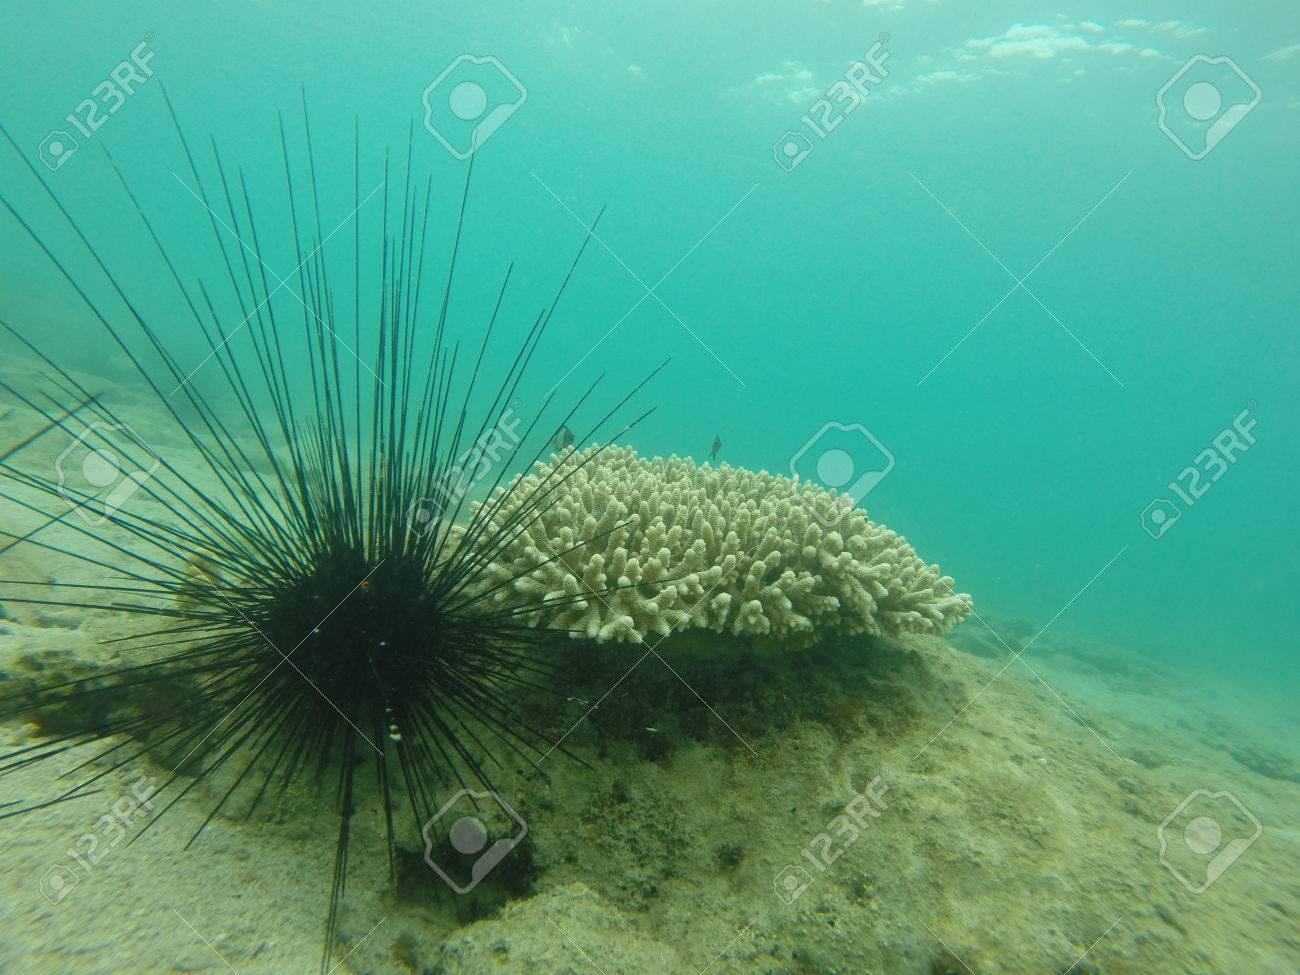urchin: (0, 49, 674, 975)
